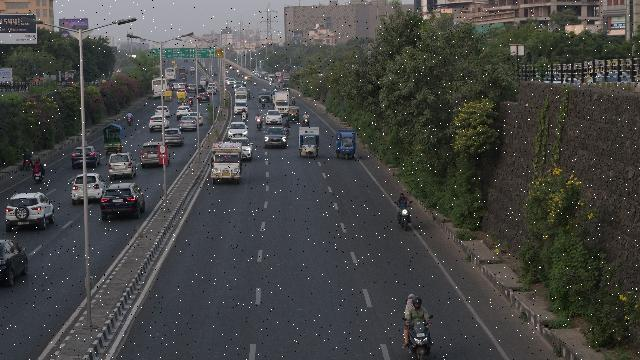With Helmet: (412, 296, 422, 312)
Without Helmet: (408, 294, 414, 302), (400, 194, 406, 200)
